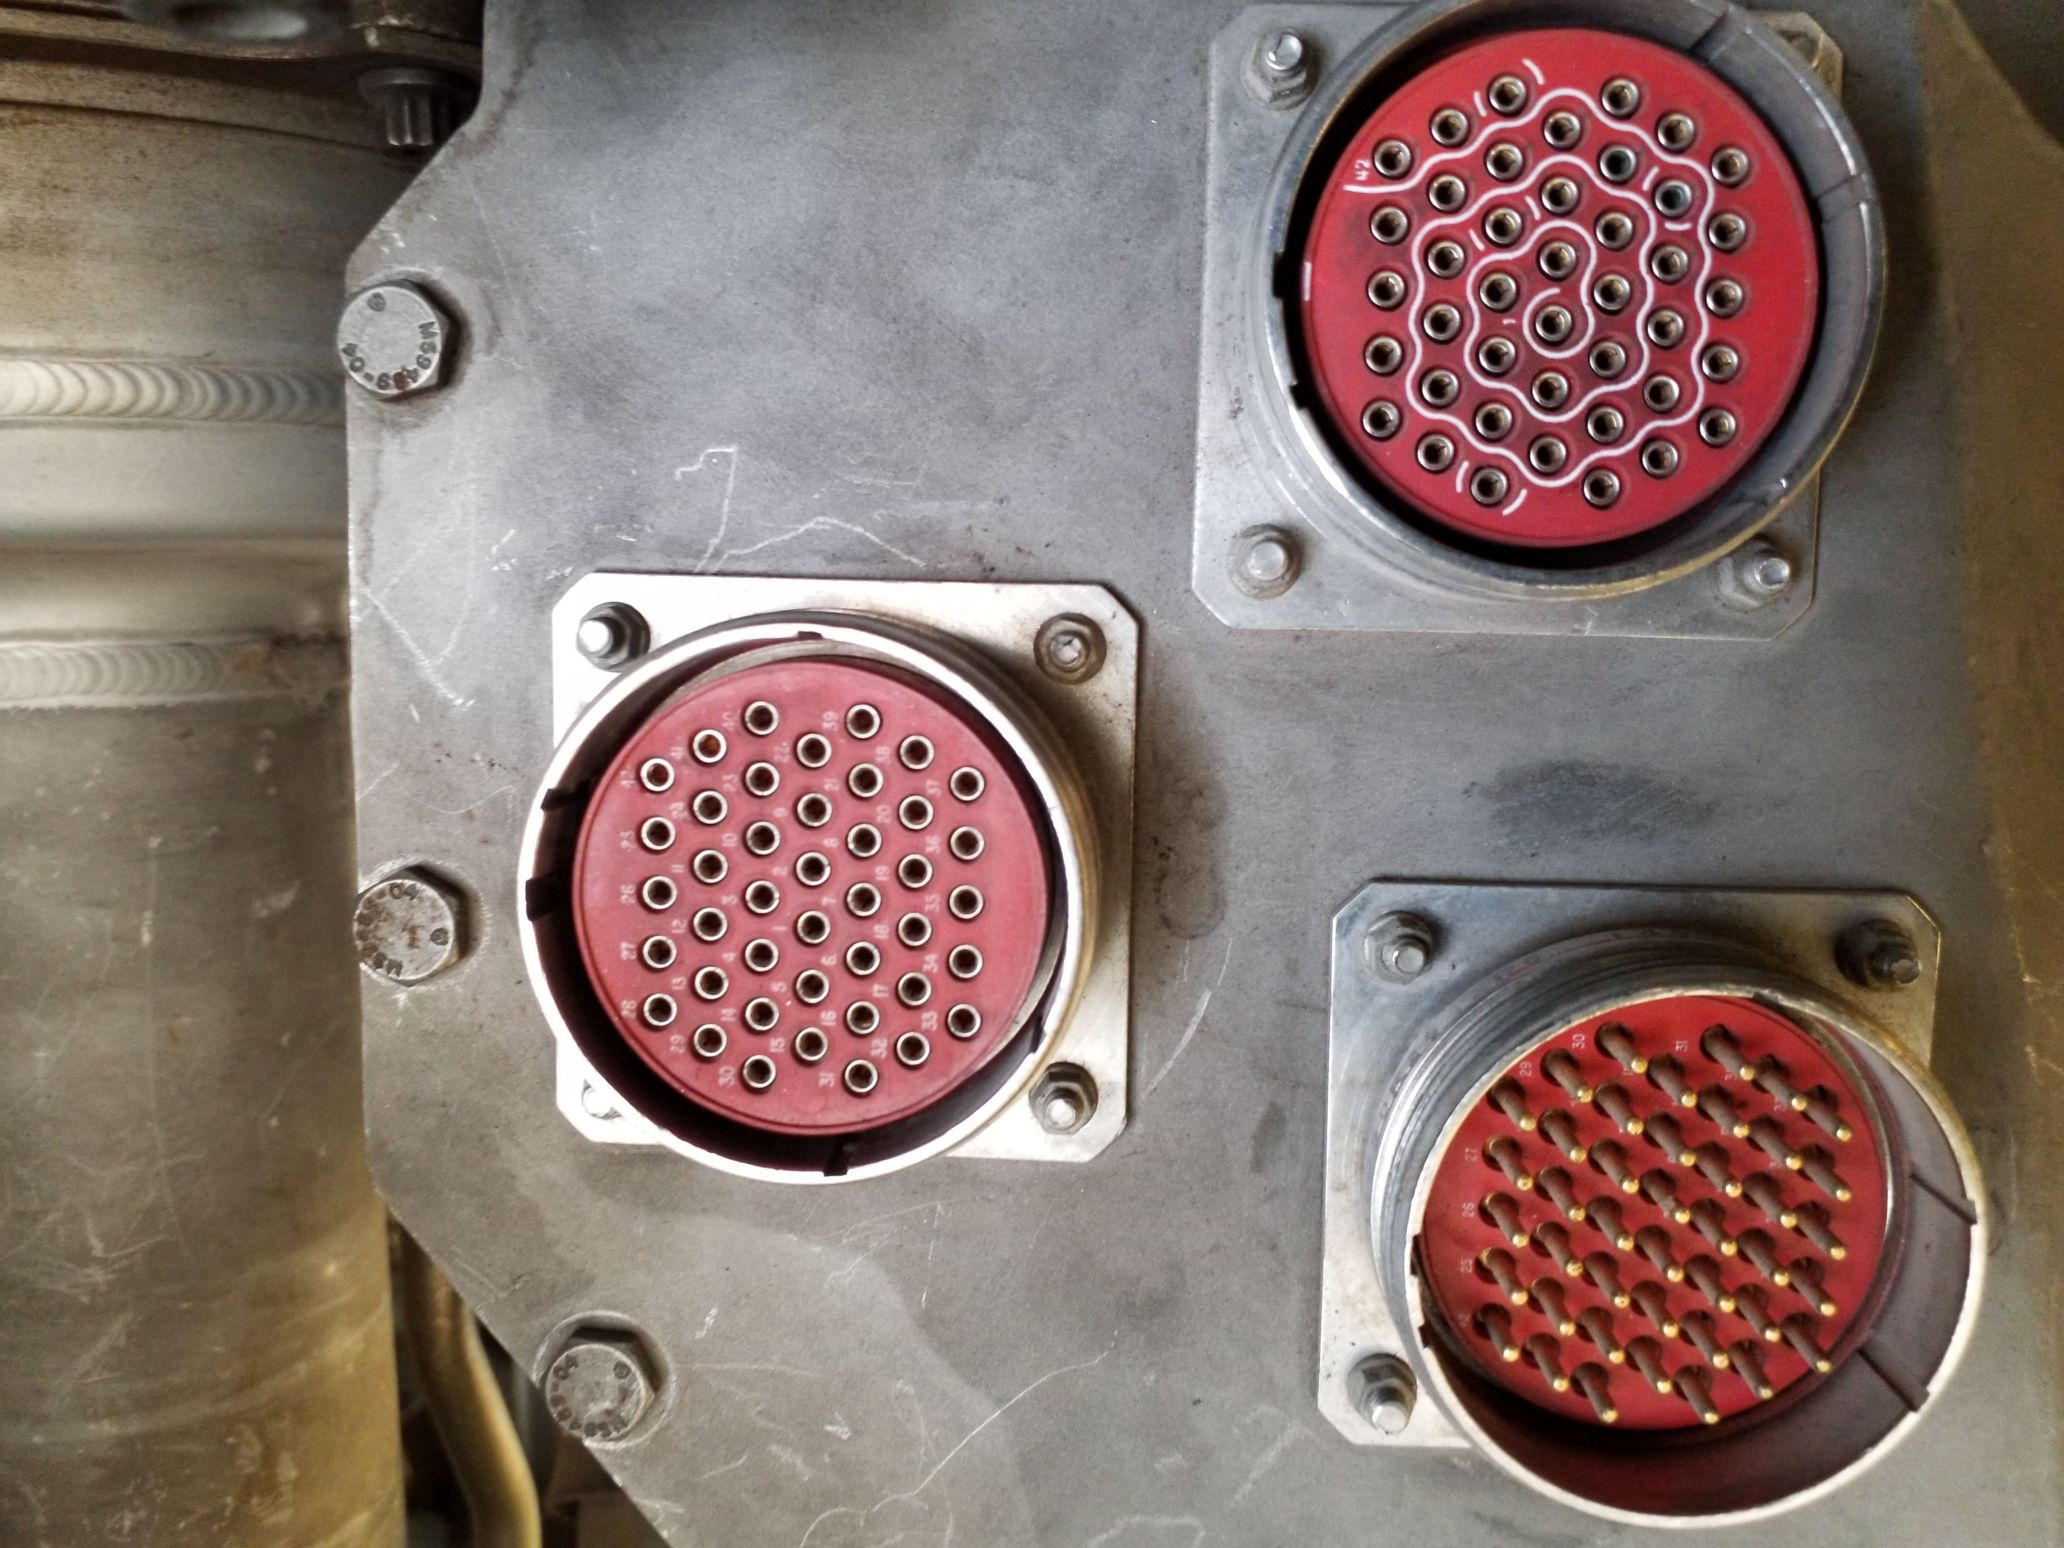inletnumbers: (514, 561, 1120, 1189)
inletround: (1214, 3, 1898, 602)
outlet: (1334, 878, 2002, 1527)
